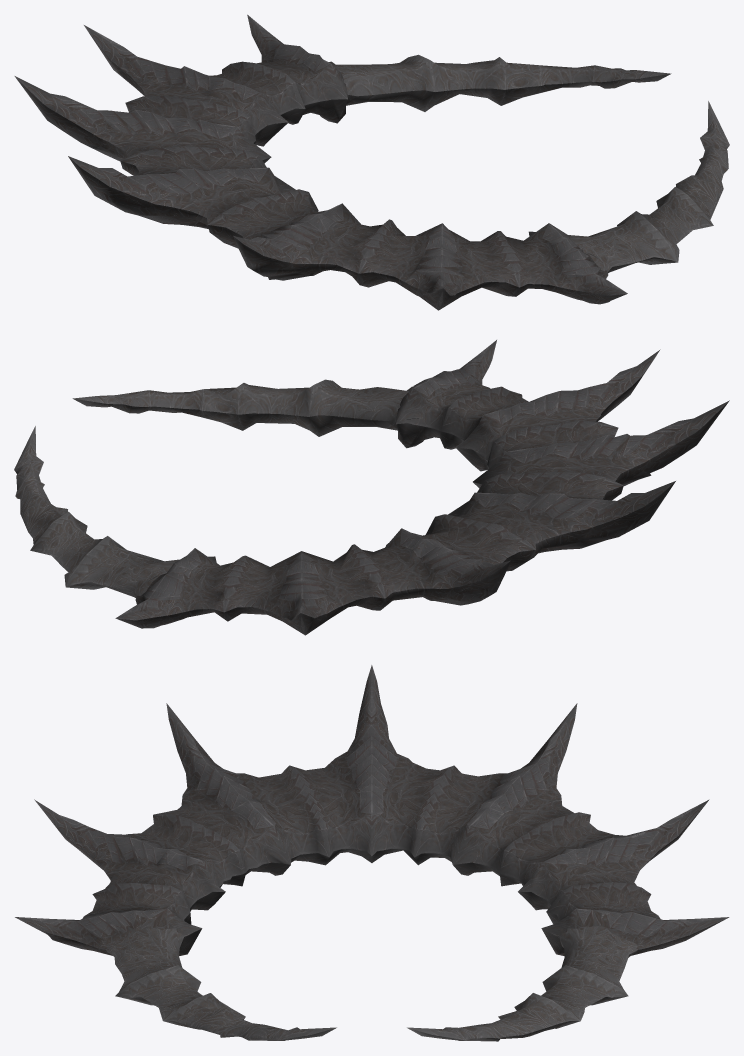
File: bg_rad_kamen_floor04lowpoly_sm_rsh.obj
The picture shows the model from 3 angles, top to bottom: view 1: azimuth 30°, elevation 25°; view 2: azimuth 150°, elevation 25°; view 3: azimuth 270°, elevation 25°; orthographic projection. The views are drawn at different scales.
Visible parts, largest first — view 1: bg_rad_kamen_floor04lowpoly_sm_rsh_0, bg_rad_kamen_floor04lowpoly_sm_rsh_1; view 2: bg_rad_kamen_floor04lowpoly_sm_rsh_0, bg_rad_kamen_floor04lowpoly_sm_rsh_1; view 3: bg_rad_kamen_floor04lowpoly_sm_rsh_0, bg_rad_kamen_floor04lowpoly_sm_rsh_1.
Boxes of the visible parts, x1,y1,x2,y2 form: bg_rad_kamen_floor04lowpoly_sm_rsh_0: [14, 14, 627, 310]; bg_rad_kamen_floor04lowpoly_sm_rsh_1: [328, 54, 729, 273]; bg_rad_kamen_floor04lowpoly_sm_rsh_0: [115, 340, 729, 635]; bg_rad_kamen_floor04lowpoly_sm_rsh_1: [14, 379, 421, 597]; bg_rad_kamen_floor04lowpoly_sm_rsh_0: [15, 665, 729, 956]; bg_rad_kamen_floor04lowpoly_sm_rsh_1: [106, 925, 637, 1041].
Size of the model in its own units: 81.5 by 17.79 by 86.51.
Materials: 2 (2 with a texture image).
